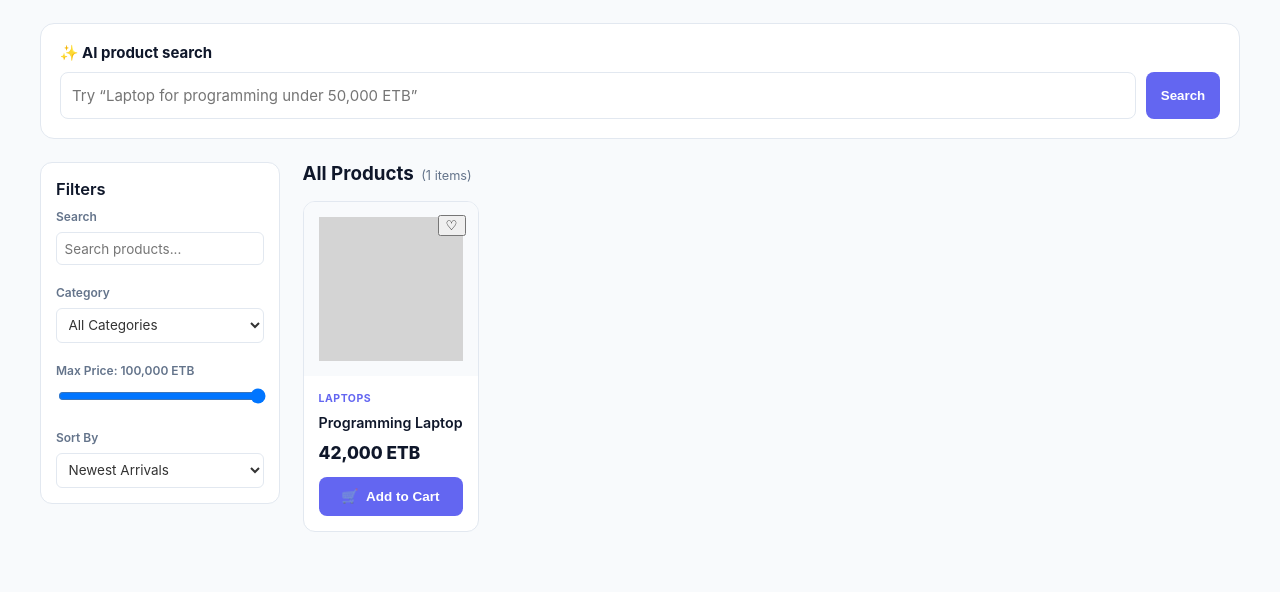
Test: natural-language product search › sends a natural-language query to the AI search endpoint and renders its results
Type "Laptop for programming under 50,000 ETB" into the field labelled "✨ AI product search" at x=598, y=96, box left=60, top=72, right=1136, bottom=119
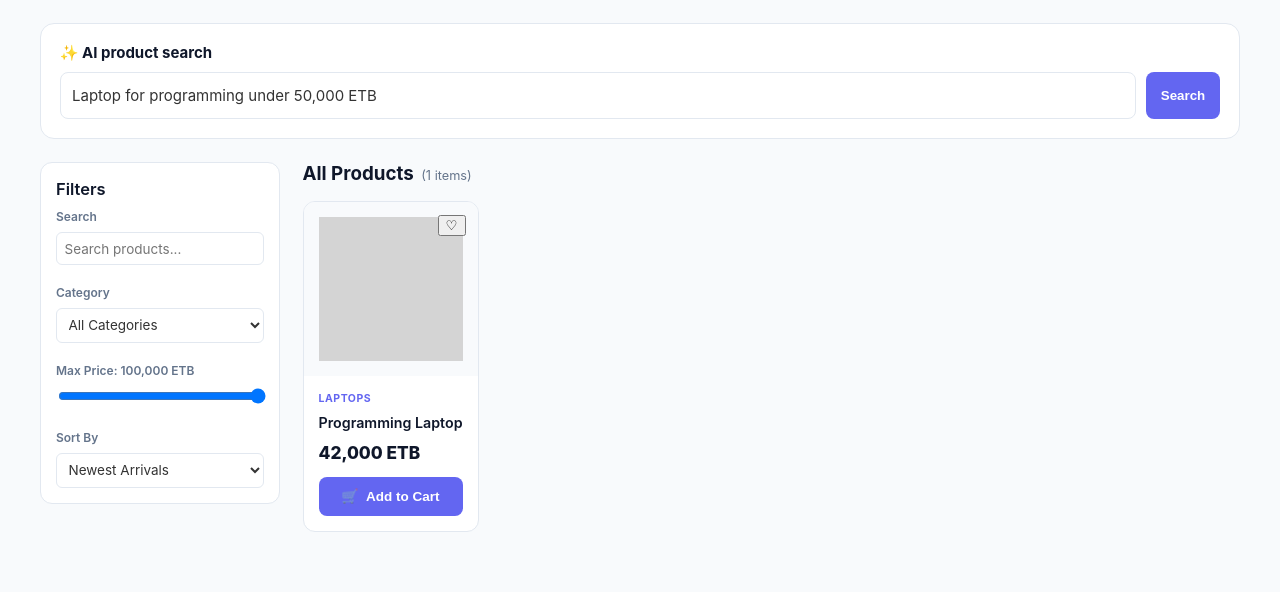
Click the button "Search" at x=1183, y=96, box left=1146, top=72, right=1220, bottom=119
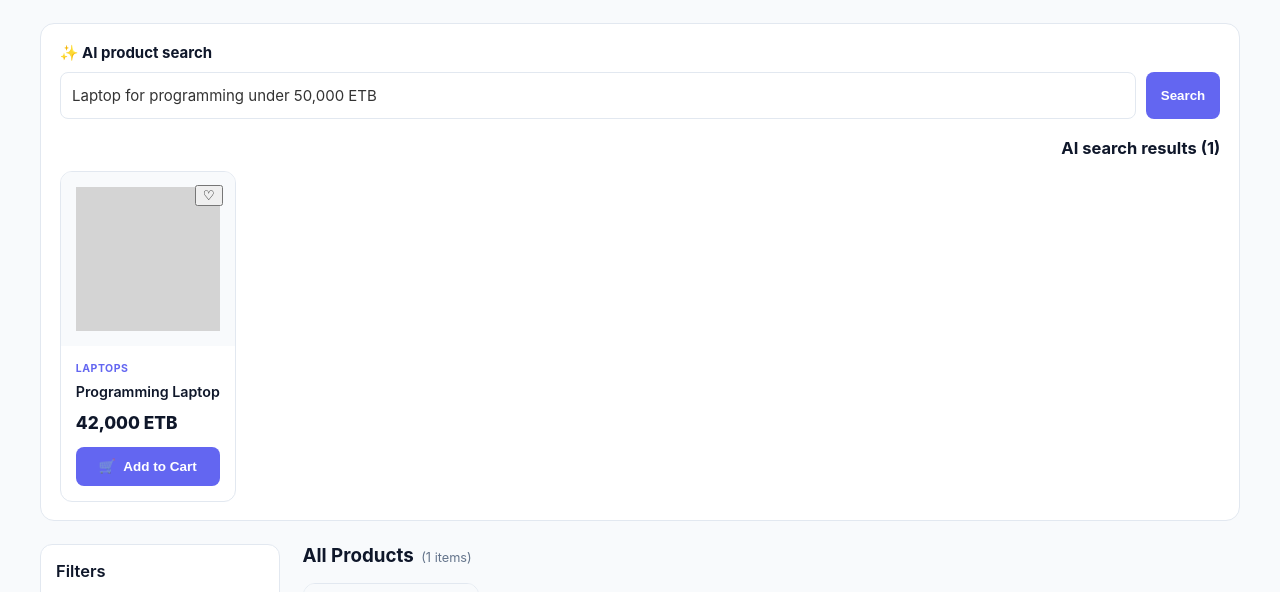
Now the heading "AI search results (1)" is shown, box left=1061, top=138, right=1220, bottom=158
